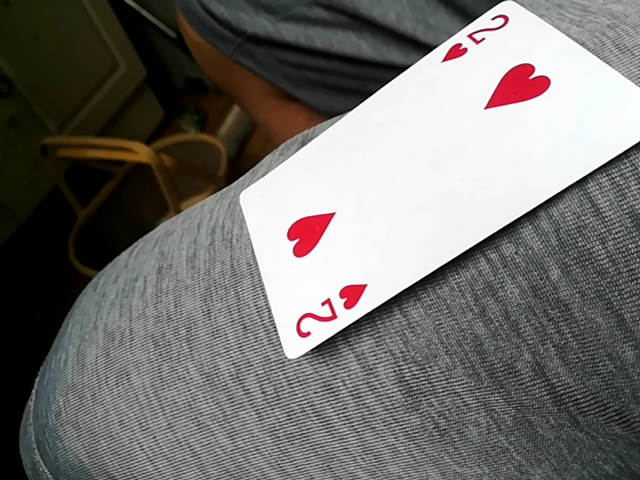hx 2: (229, 2, 634, 359)
